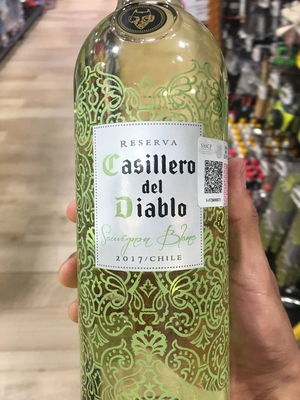casillero del diablo sauvignon blanc: (64, 6, 237, 400)
